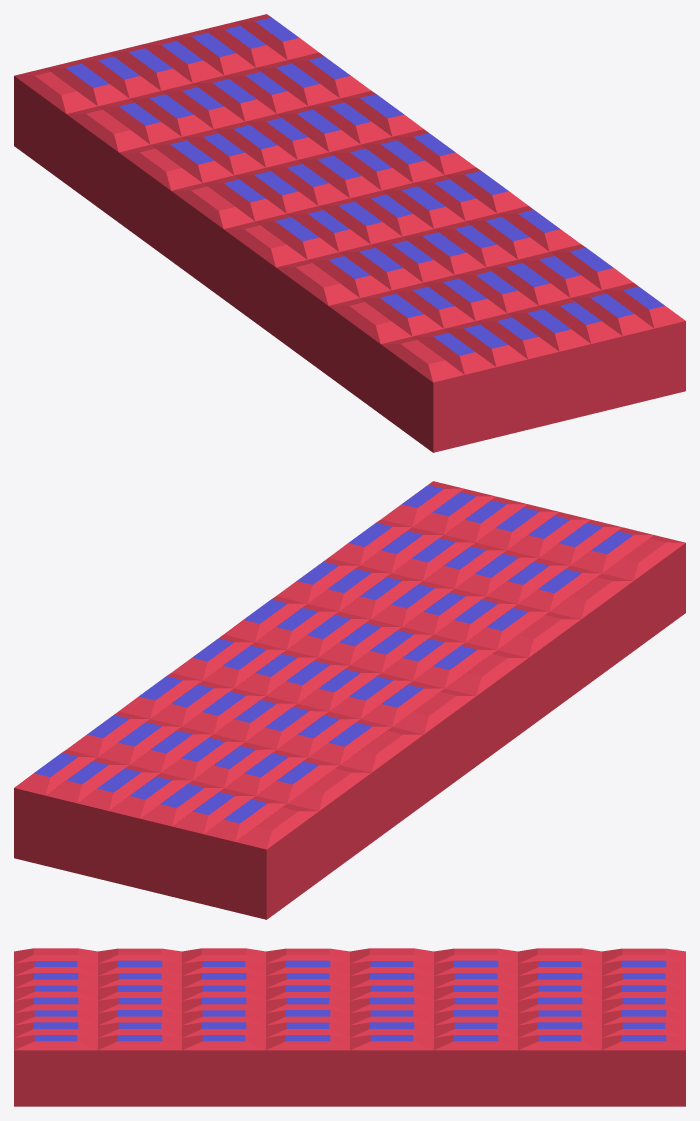
The model's file is Keyboard.fbx.
3 views of the same model, one above another, from view 1: azimuth 30°, elevation 25°; view 2: azimuth 150°, elevation 25°; view 3: azimuth 270°, elevation 25° (orthographic). The views are drawn at different scales.
Visible parts, largest first — view 1: Keyboard; view 2: Keyboard; view 3: Keyboard.
Boxes of the visible parts, box(x1,y1,x2,y2) form: Keyboard: box(14, 14, 685, 452); Keyboard: box(14, 481, 685, 919); Keyboard: box(14, 948, 685, 1106).
Size of the model in its own units: 29.17 by 8.58 by 83.78.
